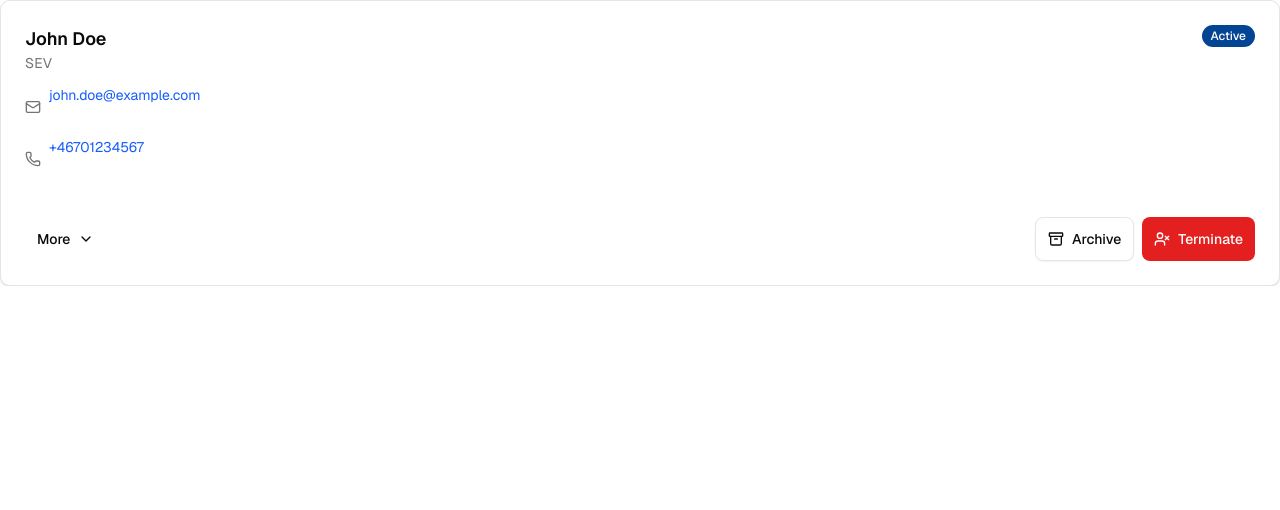
Test: EmployeeCard - Field Visibility and Permissions › AC2: Field Visibility and Permissions Tests › should display custom fields based on column configuration
Click the button with aria-label "Expand details".
click(66, 239)  # box left=25, top=217, right=106, bottom=261
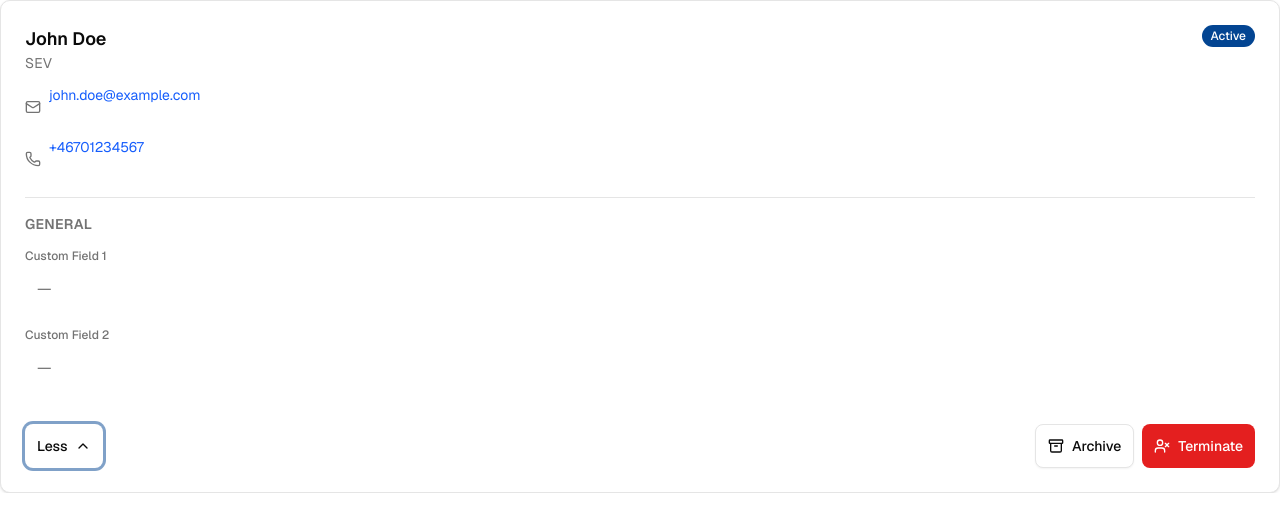
Result: the text "Custom Field 1" is shown at left=25, top=248, right=107, bottom=264
Result: the text "Custom Field 2" is shown at left=25, top=327, right=109, bottom=343
